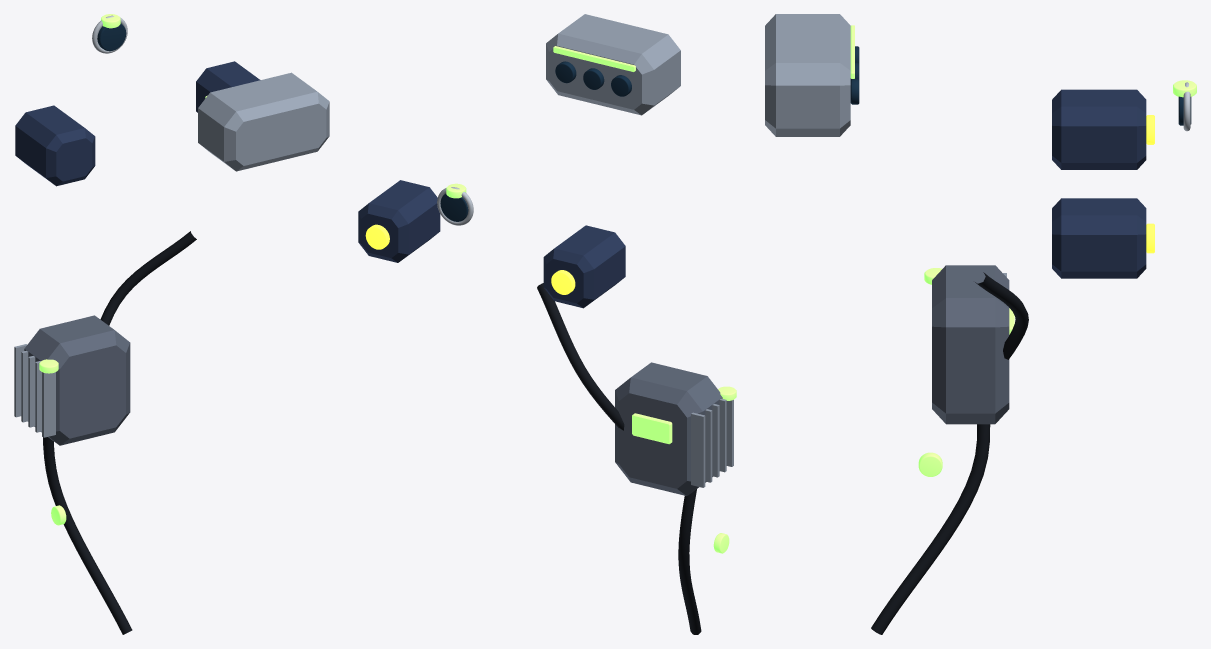
Rendered from tower_detector_analysis_s8.glb.
3 views of the same model, side by side, from view 1: azimuth 30°, elevation 25°; view 2: azimuth 150°, elevation 25°; view 3: azimuth 270°, elevation 25° (orthographic). The views are drawn at different scales.
Parts seen in each view (by area): view 1: detector_cluster, detector_recorder, detector_mark_projector_b, detector_recorder_fins, detector_harness_b, detector_harness_a, detector_mark_projector, detector_analysis_lens; view 2: detector_recorder, detector_cluster, detector_mark_projector_b, detector_mark_projector, detector_recorder_fins, detector_harness_a, detector_harness_b, detector_recorder_face, detector_cluster_bar, detector_analysis_lens; view 3: detector_recorder, detector_cluster, detector_mark_projector, detector_mark_projector_b, detector_harness_b, detector_harness_a.
Boxes of the visible parts, x1=… form: detector_cluster: x1=198, y1=72, x2=329, y2=171; detector_recorder: x1=24, y1=315, x2=130, y2=445; detector_mark_projector_b: x1=15, y1=105, x2=95, y2=186; detector_recorder_fins: x1=14, y1=344, x2=55, y2=437; detector_harness_b: x1=43, y1=437, x2=132, y2=634; detector_harness_a: x1=100, y1=231, x2=196, y2=325; detector_mark_projector: x1=196, y1=61, x2=260, y2=112; detector_analysis_lens: x1=97, y1=23, x2=126, y2=51; detector_recorder: x1=615, y1=362, x2=722, y2=495; detector_cluster: x1=546, y1=14, x2=680, y2=115; detector_mark_projector_b: x1=543, y1=225, x2=625, y2=308; detector_mark_projector: x1=358, y1=180, x2=440, y2=262; detector_recorder_fins: x1=691, y1=398, x2=733, y2=487; detector_harness_a: x1=537, y1=283, x2=624, y2=430; detector_harness_b: x1=678, y1=489, x2=701, y2=634; detector_recorder_face: x1=632, y1=413, x2=672, y2=444; detector_cluster_bar: x1=553, y1=46, x2=635, y2=71; detector_analysis_lens: x1=440, y1=193, x2=468, y2=221; detector_recorder: x1=932, y1=265, x2=1009, y2=424; detector_cluster: x1=765, y1=14, x2=850, y2=136; detector_mark_projector: x1=1052, y1=198, x2=1146, y2=278; detector_mark_projector_b: x1=1052, y1=89, x2=1146, y2=169; detector_harness_b: x1=871, y1=424, x2=990, y2=634; detector_harness_a: x1=975, y1=272, x2=1028, y2=359.
Size of the model in its own units: 0.9496 by 1.7 by 1.01.
